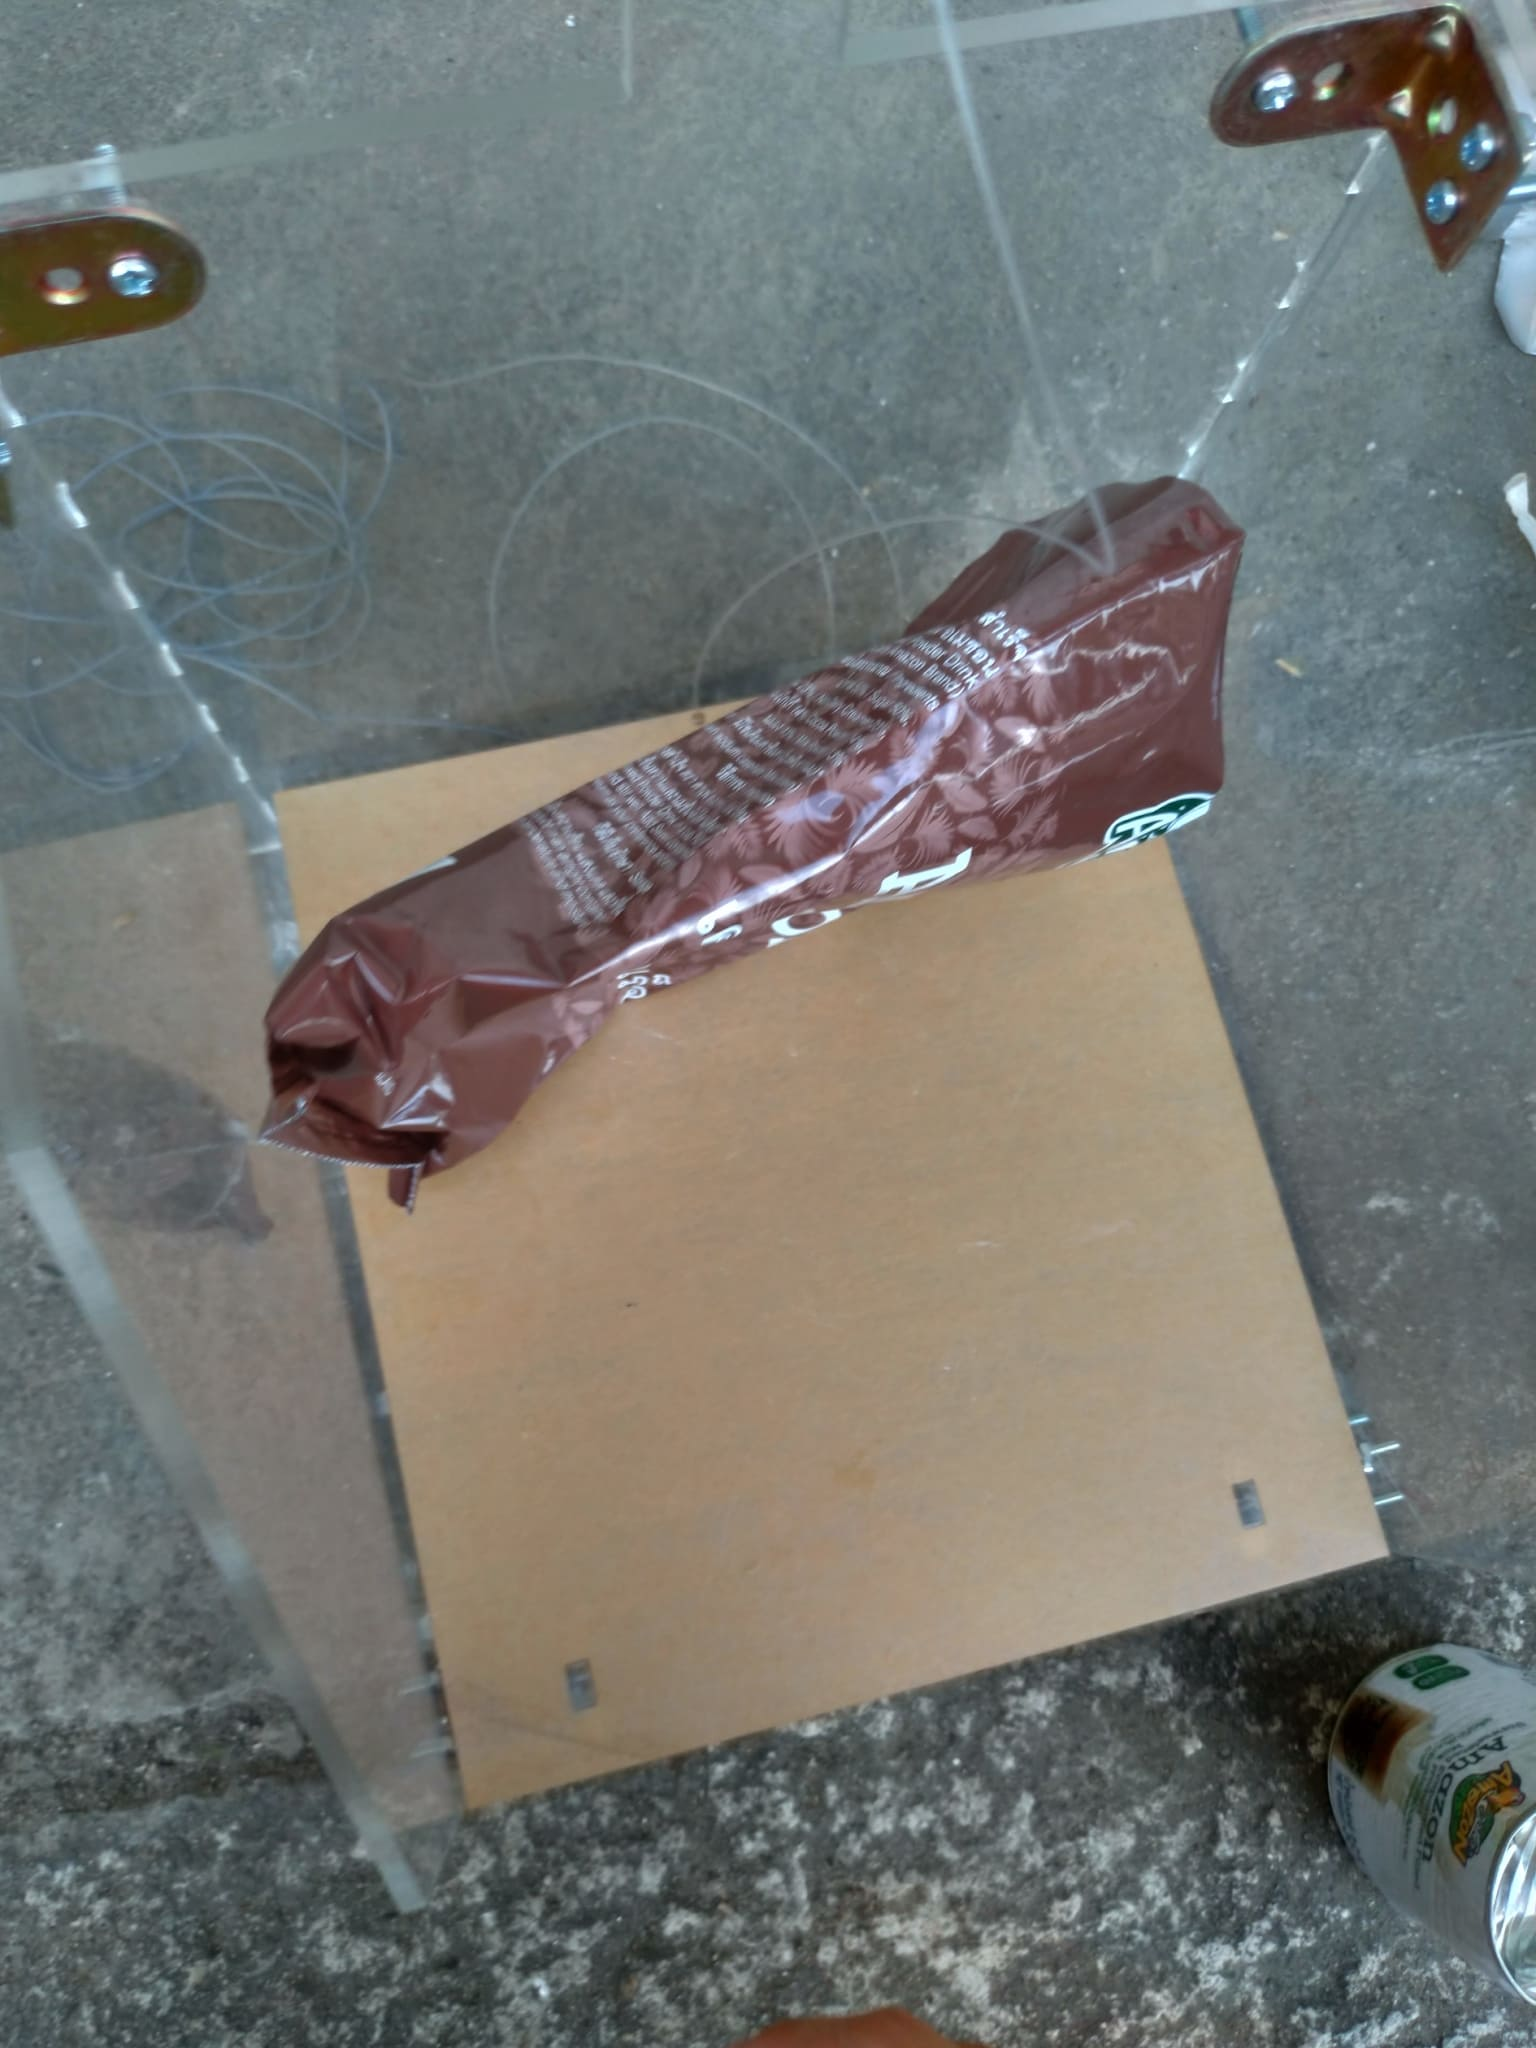Others: (253, 472, 1254, 1172)
